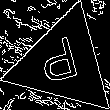P_S: (39, 34, 88, 93)
